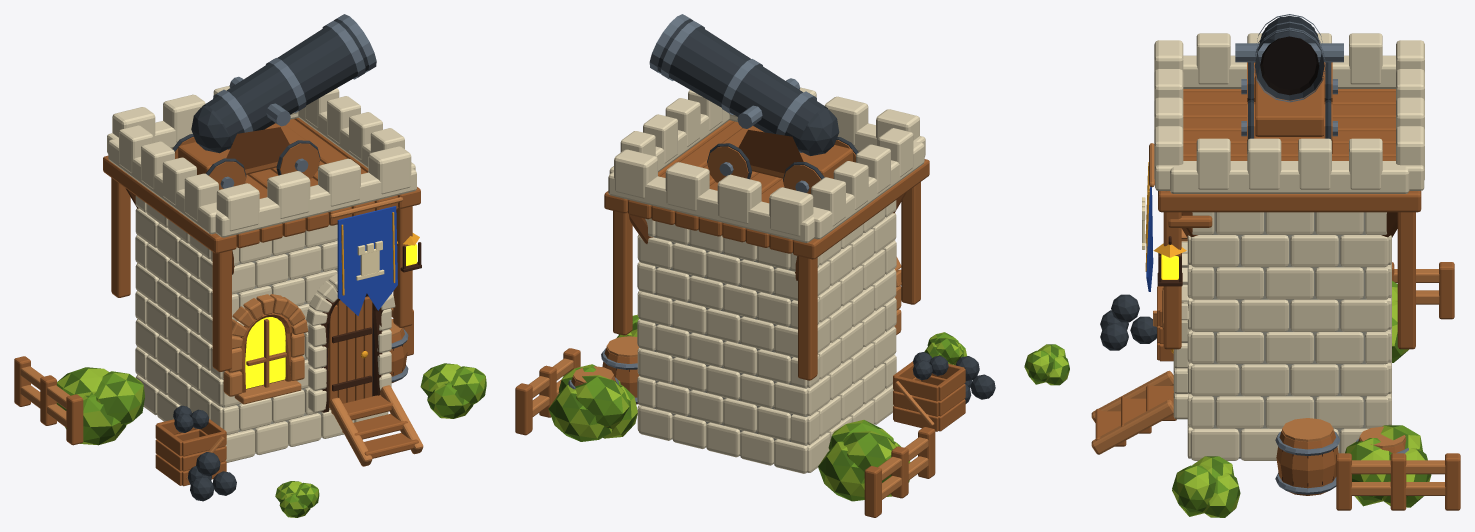
The model's file is bombarding_tower.glb.
3 views of the same model, side by side, from view 1: azimuth 30°, elevation 25°; view 2: azimuth 150°, elevation 25°; view 3: azimuth 270°, elevation 25° (orthographic). The views are drawn at different scales.
Visible parts, largest first — view 1: Iron cannon barrel, Cloth heraldic banner, Battlement base course, Platform upright, Platform upright.001, Gun platform plank, Warm arched window, Leaf cluster.004, Gun carriage cheek, Platform upright.002, Stone crenellation.002, Stone crenellation (+82 smaller); view 2: Iron cannon barrel, Battlement base course.002, Platform upright.001, Platform upright.003, Gun platform plank, Platform upright, Leaf cluster.011, Leaf cluster.009, Gun carriage cheek.001, Leaf cluster.005, Battlement base course.001, Stone crenellation.012 (+100 smaller); view 3: Gun platform plank.008, Battlement base course.003, Gun carriage bed, Platform upright.003, Mortared stone tower core, Barrel staves.001, Battlement base course.001, Recessed bore bottom, Gun platform plank.002, Gun platform plank.001, Platform upright.002, Stone crenellation.001 (+79 smaller).
Boxes of the visible parts, left/top/right/bottom form: Iron cannon barrel: left=202, top=19, right=368, bottom=149; Cloth heraldic banner: left=337, top=206, right=397, bottom=315; Battlement base course: left=215, top=167, right=416, bottom=237; Platform upright: left=212, top=234, right=231, bottom=371; Platform upright.001: left=111, top=178, right=130, bottom=297; Gun platform plank: left=103, top=155, right=236, bottom=253; Warm arched window: left=245, top=317, right=285, bottom=388; Leaf cluster.004: left=94, top=371, right=144, bottom=424; Gun carriage cheek: left=226, top=127, right=289, bottom=169; Platform upright.002: left=393, top=206, right=412, bottom=327; Stone crenellation.002: left=267, top=171, right=310, bottom=218; Stone crenellation: left=216, top=183, right=259, bottom=231; Iron cannon barrel: left=657, top=19, right=827, bottom=152; Battlement base course.002: left=608, top=171, right=814, bottom=242; Platform upright.001: left=798, top=239, right=817, bottom=380; Platform upright.003: left=613, top=211, right=632, bottom=335; Gun platform plank: left=793, top=159, right=929, bottom=259; Platform upright: left=901, top=182, right=920, bottom=304; Leaf cluster.011: left=575, top=375, right=629, bottom=430; Leaf cluster.009: left=548, top=385, right=612, bottom=441; Gun carriage cheek.001: left=738, top=130, right=803, bottom=173; Leaf cluster.005: left=818, top=441, right=864, bottom=501; Battlement base course.001: left=811, top=141, right=924, bottom=239; Stone crenellation.012: left=665, top=162, right=709, bottom=211; Gun platform plank.008: left=1158, top=191, right=1421, bottom=212; Battlement base course.003: left=1170, top=161, right=1409, bottom=193; Gun carriage bed: left=1254, top=70, right=1324, bottom=136; Platform upright.003: left=1397, top=191, right=1415, bottom=349; Mortared stone tower core: left=1193, top=212, right=1385, bottom=458; Barrel staves.001: left=1276, top=431, right=1338, bottom=495; Battlement base course.001: left=1183, top=55, right=1395, bottom=88; Recessed bore bottom: left=1263, top=36, right=1316, bottom=89; Gun platform plank.002: left=1183, top=105, right=1395, bottom=118; Gun platform plank.001: left=1183, top=92, right=1395, bottom=105; Platform upright.002: left=1163, top=191, right=1181, bottom=349; Stone crenellation.001: left=1196, top=33, right=1230, bottom=84.
Size of the model in its own units: 3.99 by 4.15 by 3.61.
